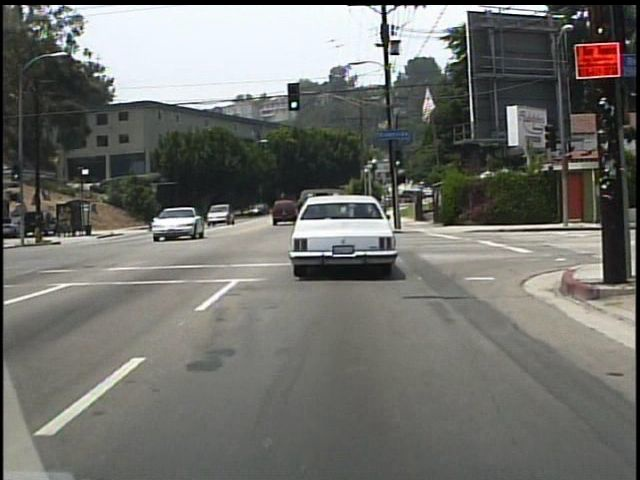person: (160, 209, 168, 229)
